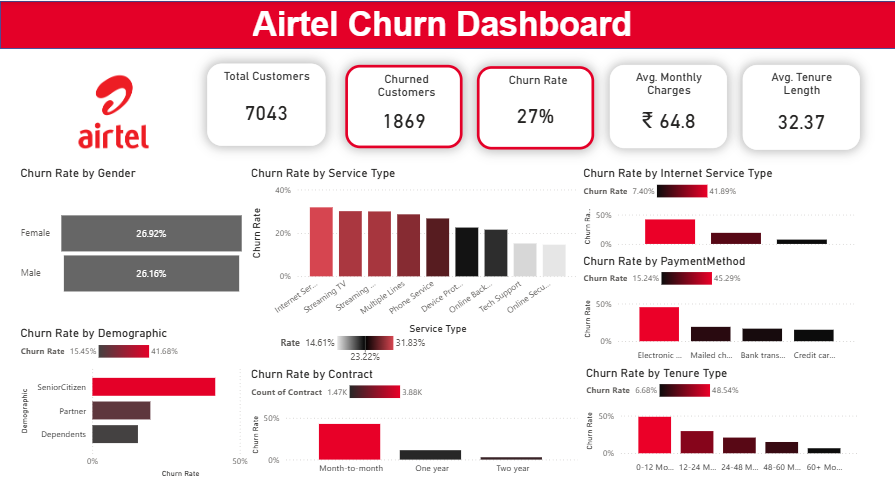

Layout of this report page (visuals, bound fields, positions):
{"tool":"powerbi","page":{"name":"Page 1","canvas":[1280,720],"ordinal":0},"visuals":[{"type":"card","title":"Avg. Tenure Length","fields":{"Values":["Avg(Fact Table.tenure)"]},"box":[1059,90.3,167.3,121.1],"z":0},{"type":"card","title":"Avg. Monthly Charges","fields":{"Values":["Avg(Fact Table.MonthlyCharges)"]},"box":[869.7,90.3,167.3,118.9],"z":1000},{"type":"card","title":"Total Customers","fields":{"Values":["Count(Fact Table.customerID)"]},"box":[295.8,89.1,168.6,117.7],"z":2000},{"type":"card","title":"Churned Customers","fields":{"Values":["Fact Table.Chured Customers"]},"box":[493.2,90.3,167.3,118.9],"z":3000},{"type":"card","title":"Churn Rate","fields":{"Values":["Fact Table.Churn Rate"]},"box":[680.3,92.5,167.3,118.9],"z":4000},{"type":"shape","box":[0,0,1279.2,68.3],"z":6000},{"type":"columnChart","fields":{"Category":["Services.InternetService"],"Y":["Fact Table.Churn Rate"]},"box":[827.8,235.6,398.5,125.5],"z":7000},{"type":"clusteredColumnChart","fields":{"Category":["Services.Service Type","Services.InternetService"],"Y":["Fact Table.Churn Rate"]},"box":[352.3,235.6,475.6,284],"z":8000},{"type":"funnel","title":"Churn Rate by Gender","fields":{"Category":["Customer Profiles.gender"],"Y":["Fact Table.Churn Rate"]},"box":[24.2,235.6,330.3,229],"z":9000},{"type":"clusteredBarChart","fields":{"Category":["Customer Profiles.Demographic"],"Y":["Fact Table.Churn Rate"]},"box":[24.2,464.6,376.5,220.2],"z":10000},{"type":"columnChart","fields":{"Category":["Contract.Contract"],"Y":["Fact Table.Churn Rate"]},"box":[352.3,521.8,475.6,162.9],"z":10500},{"type":"image","box":[0,79.3,323.6,156.3],"z":11000},{"type":"textbox","box":[354.5,0,757.4,79.3],"z":12000},{"type":"columnChart","fields":{"Category":["Contract.PaymentMethod"],"Y":["Fact Table.Churn Rate"]},"box":[827.8,361.1,398.5,160.7],"z":13000},{"type":"columnChart","fields":{"Category":["Fact Table.Tenure Type"],"Y":["Fact Table.Churn Rate"]},"box":[830,519.6,398.5,160.7],"z":14000}]}

Visuals, with their boxes in screenshot pixels (x1, y1, x2, y2), scaled from the page's 1280x720 canvas onto the 895x499 screenshot:
"Avg. Tenure Length" card: [740, 63, 857, 147]
"Avg. Monthly Charges" card: [608, 63, 725, 145]
"Total Customers" card: [207, 62, 325, 143]
"Churned Customers" card: [345, 63, 462, 145]
"Churn Rate" card: [476, 64, 593, 147]
shape: [0, 0, 894, 47]
columnChart - Services.InternetService x Fact Table.Churn Rate: [579, 163, 857, 250]
clusteredColumnChart - Services.Service Type x Services.InternetService: [246, 163, 579, 360]
"Churn Rate by Gender" funnel: [17, 163, 248, 322]
clusteredBarChart - Customer Profiles.Demographic x Fact Table.Churn Rate: [17, 322, 280, 475]
columnChart - Contract.Contract x Fact Table.Churn Rate: [246, 362, 579, 475]
image: [0, 55, 226, 163]
textbox: [248, 0, 777, 55]
columnChart - Contract.PaymentMethod x Fact Table.Churn Rate: [579, 250, 857, 362]
columnChart - Fact Table.Tenure Type x Fact Table.Churn Rate: [580, 360, 859, 471]
